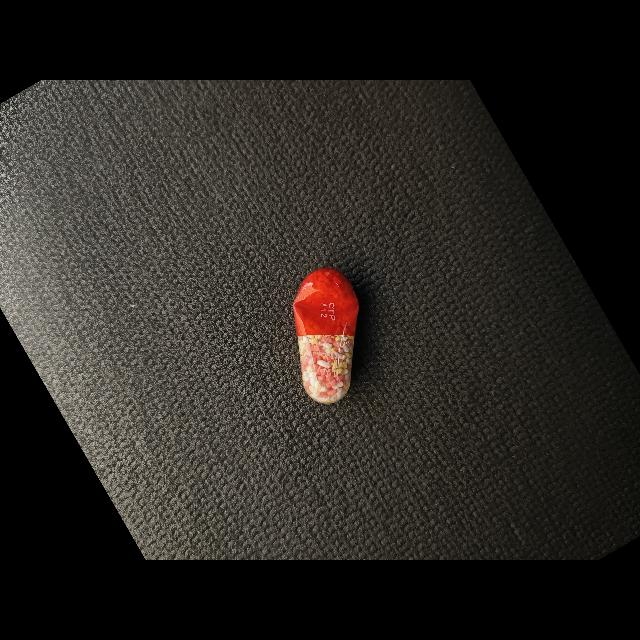Defective Capsule: (293, 268, 359, 404)
